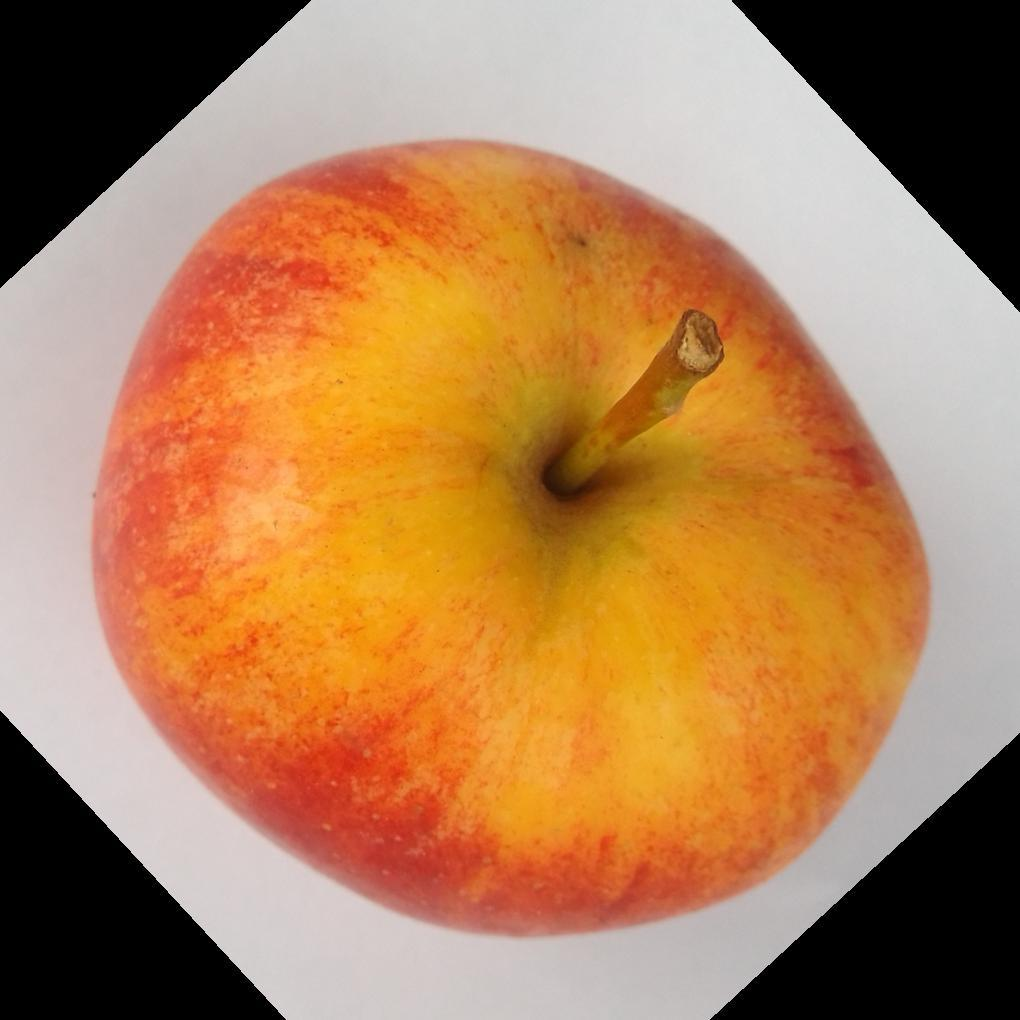FreshGuava: (85, 138, 933, 945)
